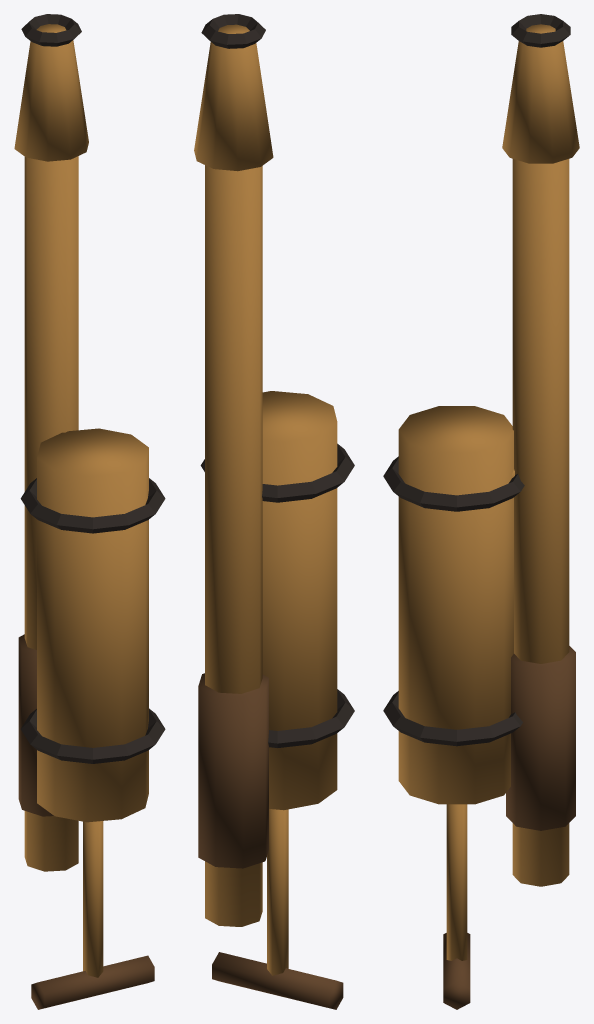
Rendered from Hand_Siphon.gltf.
The picture shows the model from 3 angles, left to right: view 1: azimuth 30°, elevation 25°; view 2: azimuth 150°, elevation 25°; view 3: azimuth 270°, elevation 25°; orthographic projection. The views are drawn at different scales.
Visible parts, largest first — view 1: Cylinder; view 2: Cylinder; view 3: Cylinder.
Part boxes in pixels (x1,y1,x2,y2): Cylinder: [14, 14, 165, 1009]; Cylinder: [194, 14, 354, 1009]; Cylinder: [383, 14, 579, 1009].
Size of the model in its own units: 0.114 by 0.818 by 0.152.
